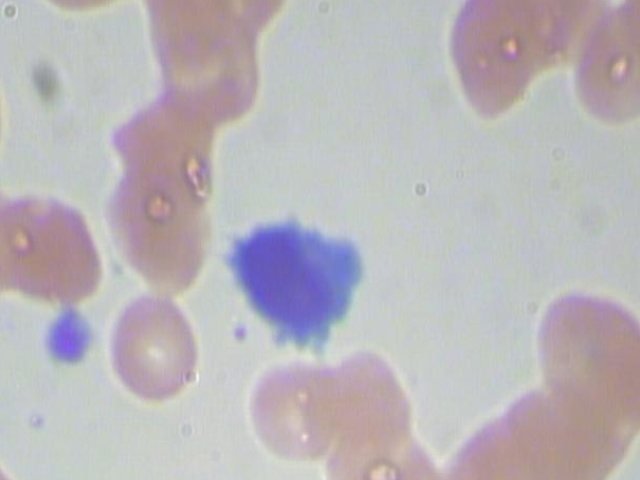Platelets: (41, 301, 105, 385)
RBC: (435, 0, 551, 136), (99, 287, 214, 412), (232, 343, 347, 467), (0, 189, 112, 313)
WBC: (210, 209, 372, 370)
